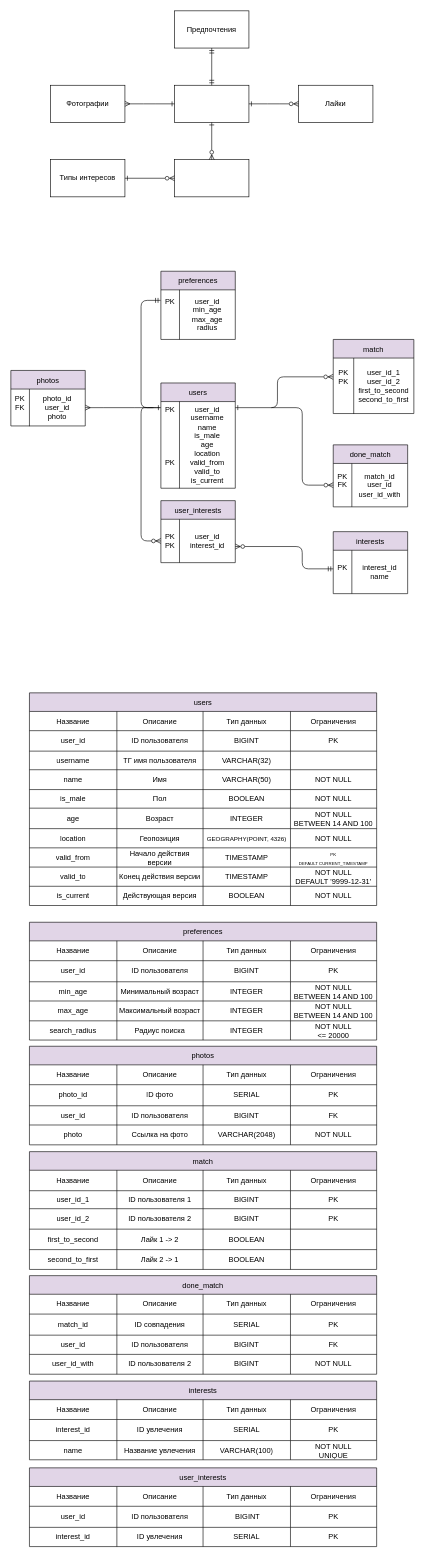
Some shapes in this 425 by 1557 pixel diagram are drawn without their labels. The shapes that lost their labels are listed below. From the top down, each one's centre as x and y in pixels, then its label:
At point 211,103: "Пользователь".
At point 211,178: "Интересы пользователя".
